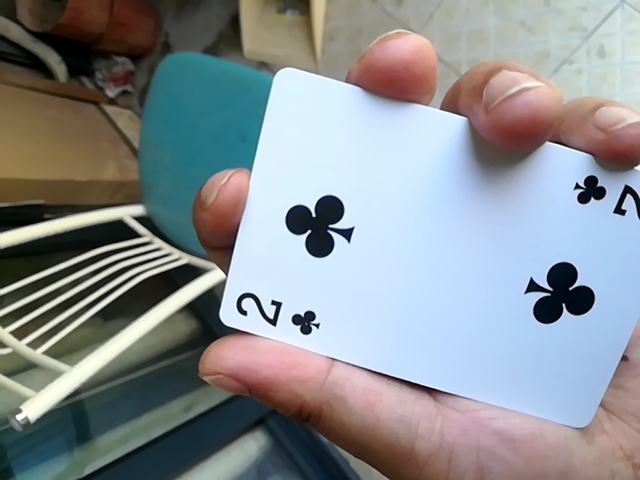mh 2: (192, 78, 633, 432)
